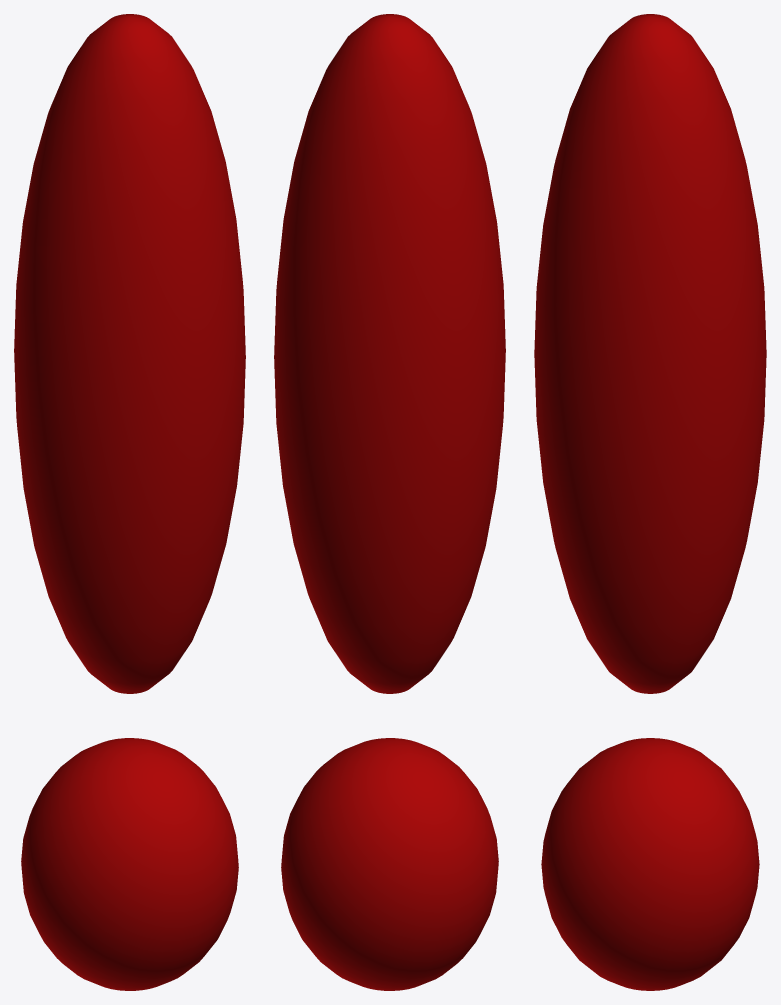
File: MachineBreakWarning.fbx
The picture shows the model from 3 angles, left to right: view 1: azimuth 30°, elevation 25°; view 2: azimuth 150°, elevation 25°; view 3: azimuth 270°, elevation 25°; orthographic projection.
Visible parts, largest first — view 1: Sphere002, Sphere001; view 2: Sphere002, Sphere001; view 3: Sphere002, Sphere001.
Boxes of the visible parts, <box> form: Sphere002: <box>14,14,245,693</box>; Sphere001: <box>21,738,238,990</box>; Sphere002: <box>274,14,505,693</box>; Sphere001: <box>281,738,498,990</box>; Sphere002: <box>534,14,766,693</box>; Sphere001: <box>541,738,759,990</box>.
Size of the model in its own units: 7.19 by 32.95 by 7.19.
